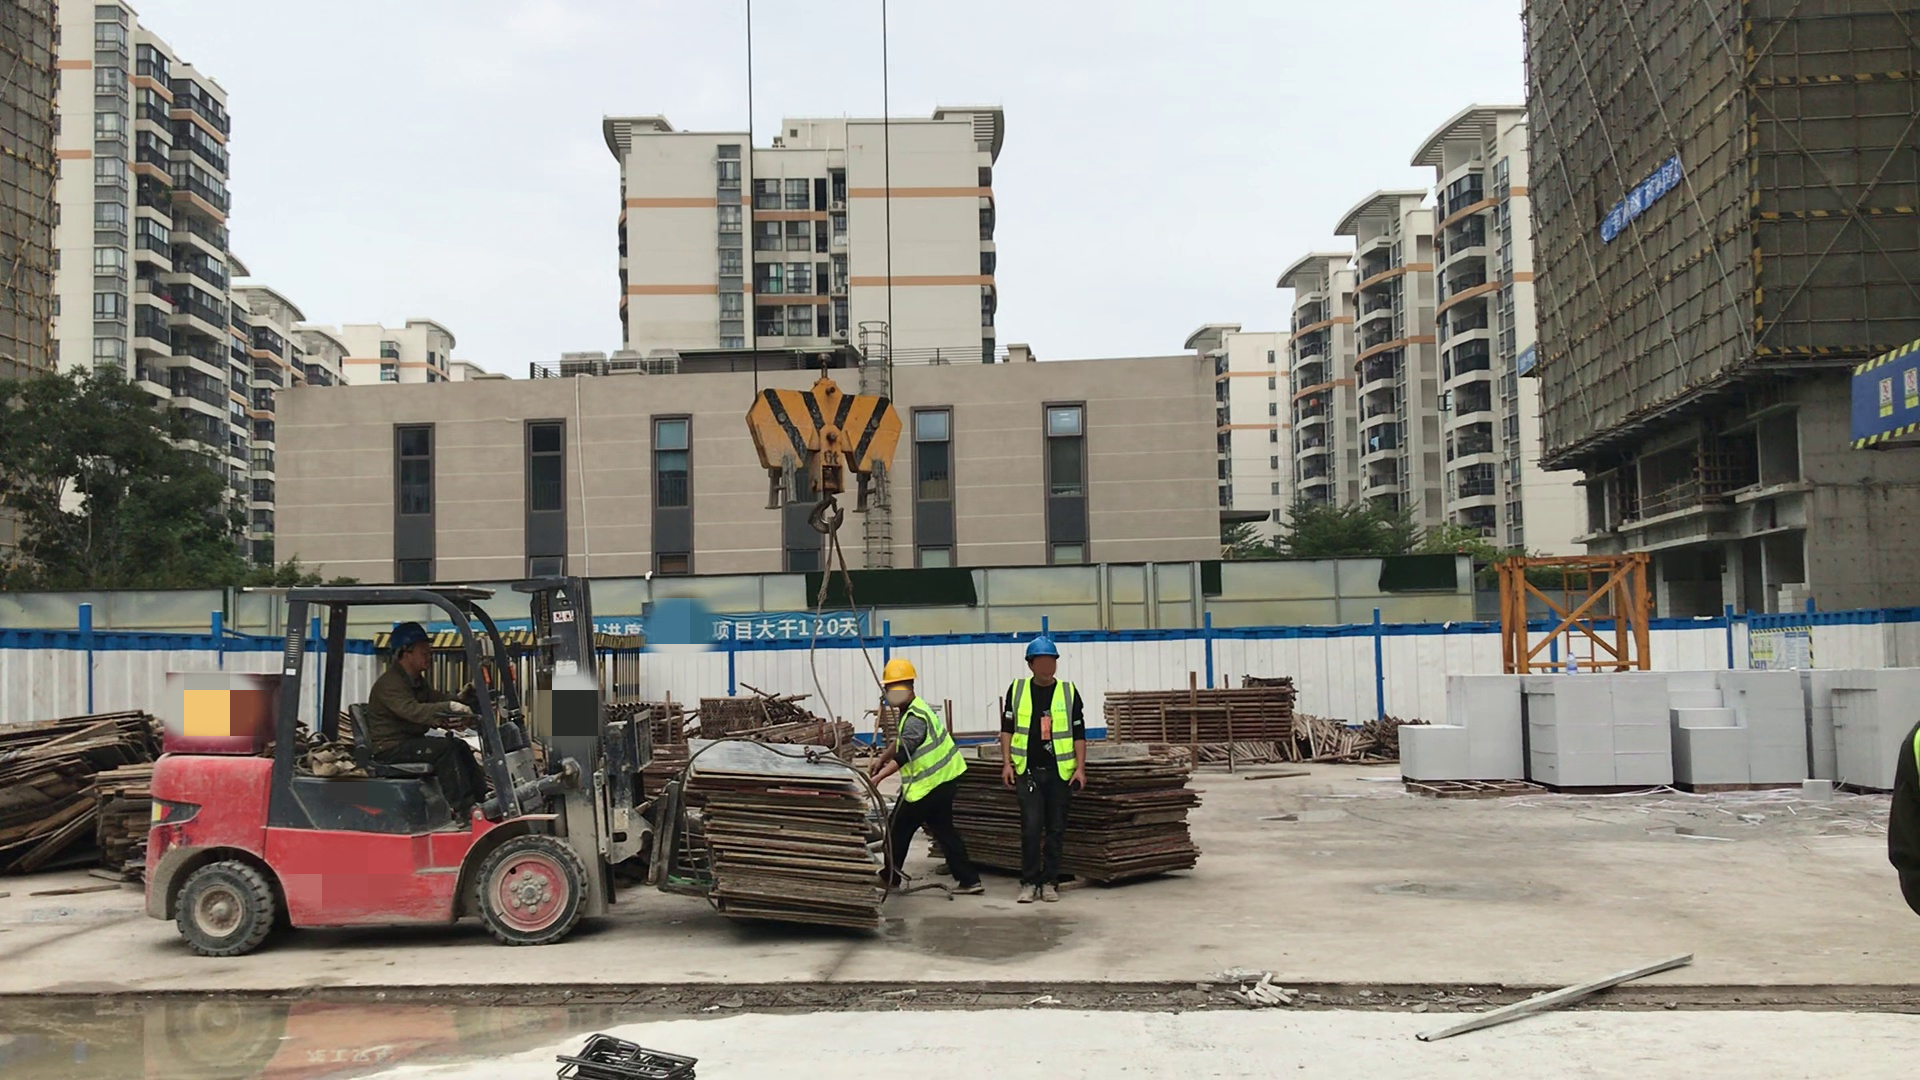board: (688, 727, 875, 933), (973, 757, 1190, 870)
brick: (1524, 673, 1669, 789), (1665, 670, 1806, 789), (1396, 676, 1523, 788), (1809, 666, 1916, 792)
helmet: (386, 620, 432, 647), (880, 657, 916, 683), (1023, 634, 1059, 659)
hook: (744, 360, 904, 533)
person: (864, 659, 984, 900), (364, 623, 484, 827), (998, 636, 1085, 906)
slogan: (1601, 156, 1681, 241), (698, 614, 866, 646)
vest: (892, 696, 967, 803), (1005, 679, 1078, 780)
